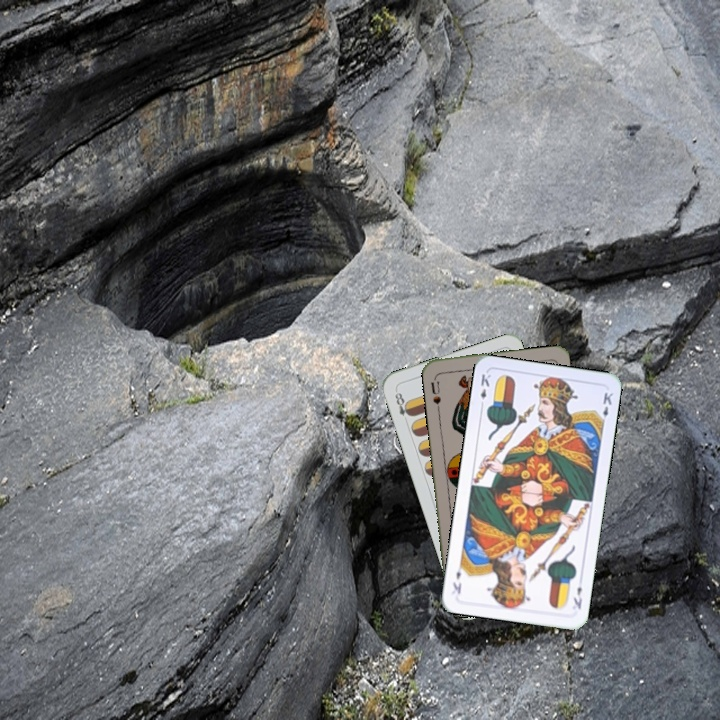E8: (391, 386, 414, 419)
EK: (476, 370, 493, 410), (569, 582, 585, 612)
SU: (427, 373, 443, 413)
